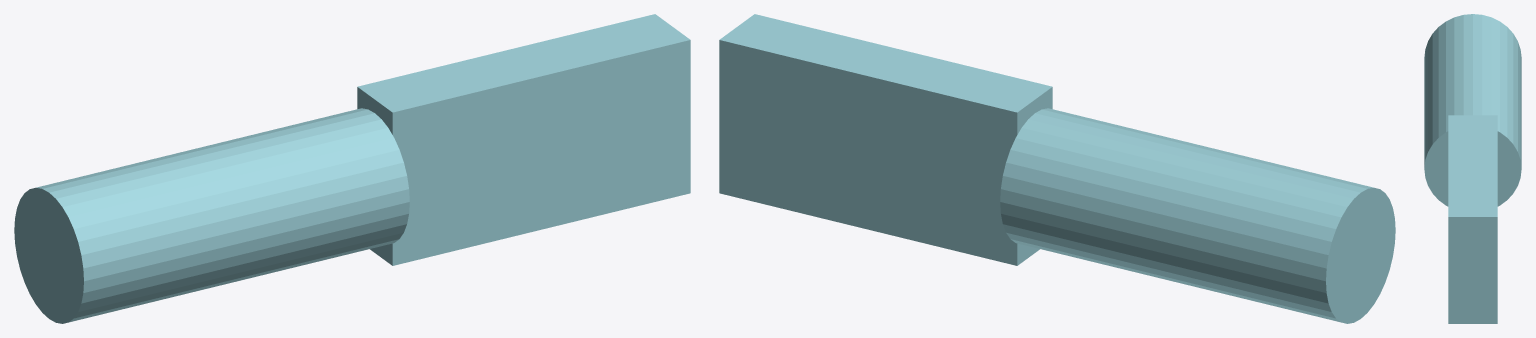
File: cylinder_spatula_v6000.obj
3 renders of one model, left to right at view 1: azimuth 30°, elevation 25°; view 2: azimuth 150°, elevation 25°; view 3: azimuth 270°, elevation 25°, orthographic. The views are drawn at different scales.
Bounding box in the file's own units: 0.2381 × 0.056 × 0.0461.
Materials: 1 (1 with a texture image).
